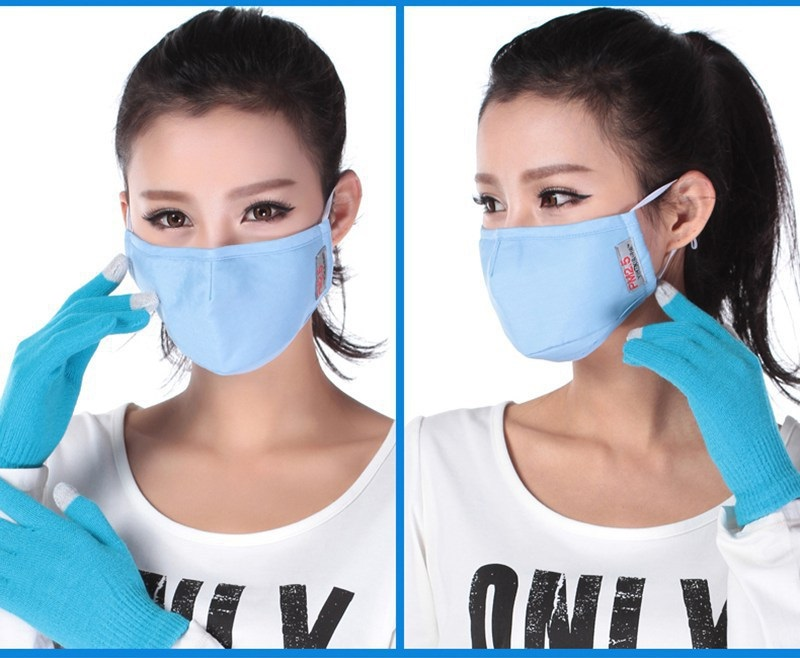face_mask: (127, 102, 323, 373), (470, 97, 658, 357)
